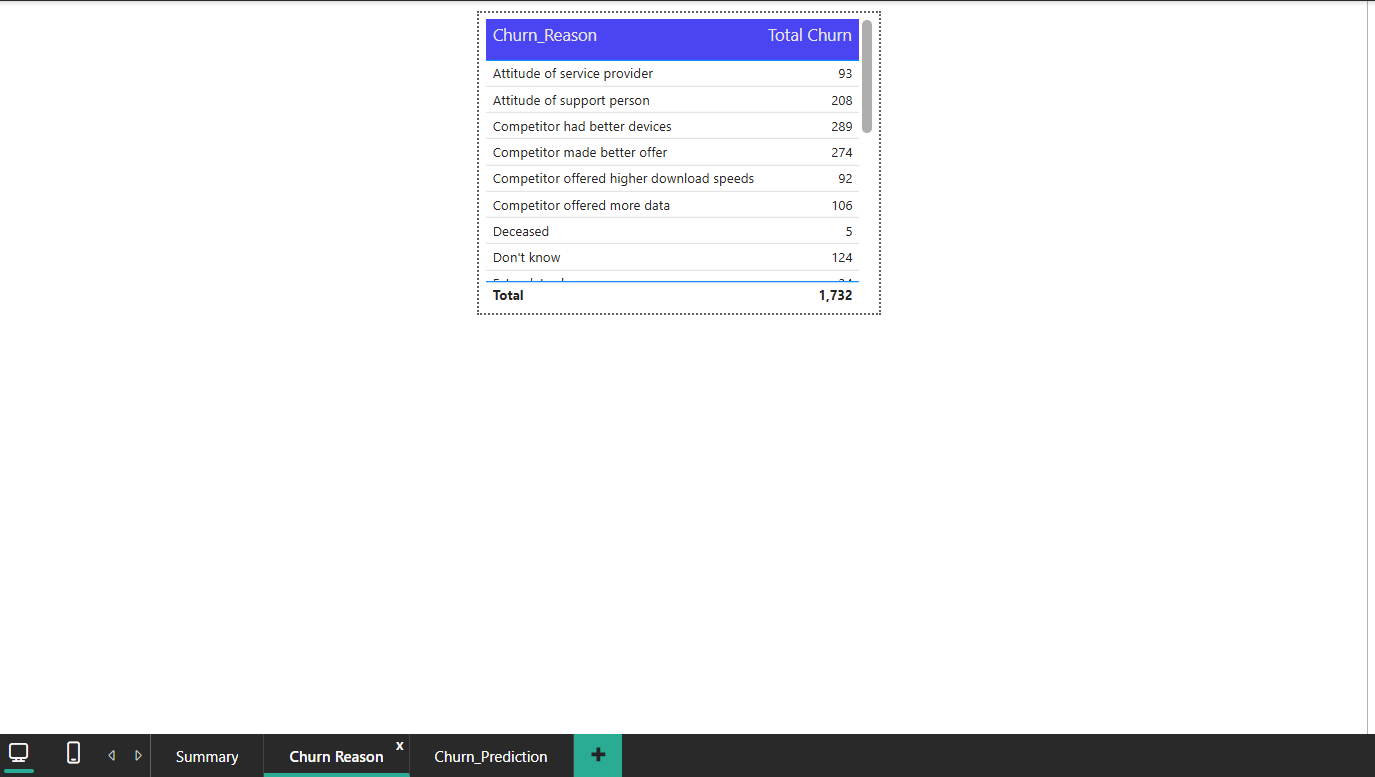

The page's visual inventory and layout, read from the dashboard file:
{"tool":"powerbi","page":{"name":"Churn Reason","canvas":[320,240],"ordinal":1},"visuals":[{"type":"tableEx","fields":{"Values":["prod_Churn.Churn_Reason","tbl_Measures.Total Churn"]},"box":[0,0,320,240],"z":0}]}

Visuals, with their boxes on the page's 320x240 design canvas (x1, y1, x2, y2). These are canvas units, not pixel positions in the 1375x777 screenshot, which may show the page scaled, cropped or inside an application window:
tableEx - prod_Churn.Churn_Reason x tbl_Measures.Total Churn: (x1=0, y1=0, x2=320, y2=240)
